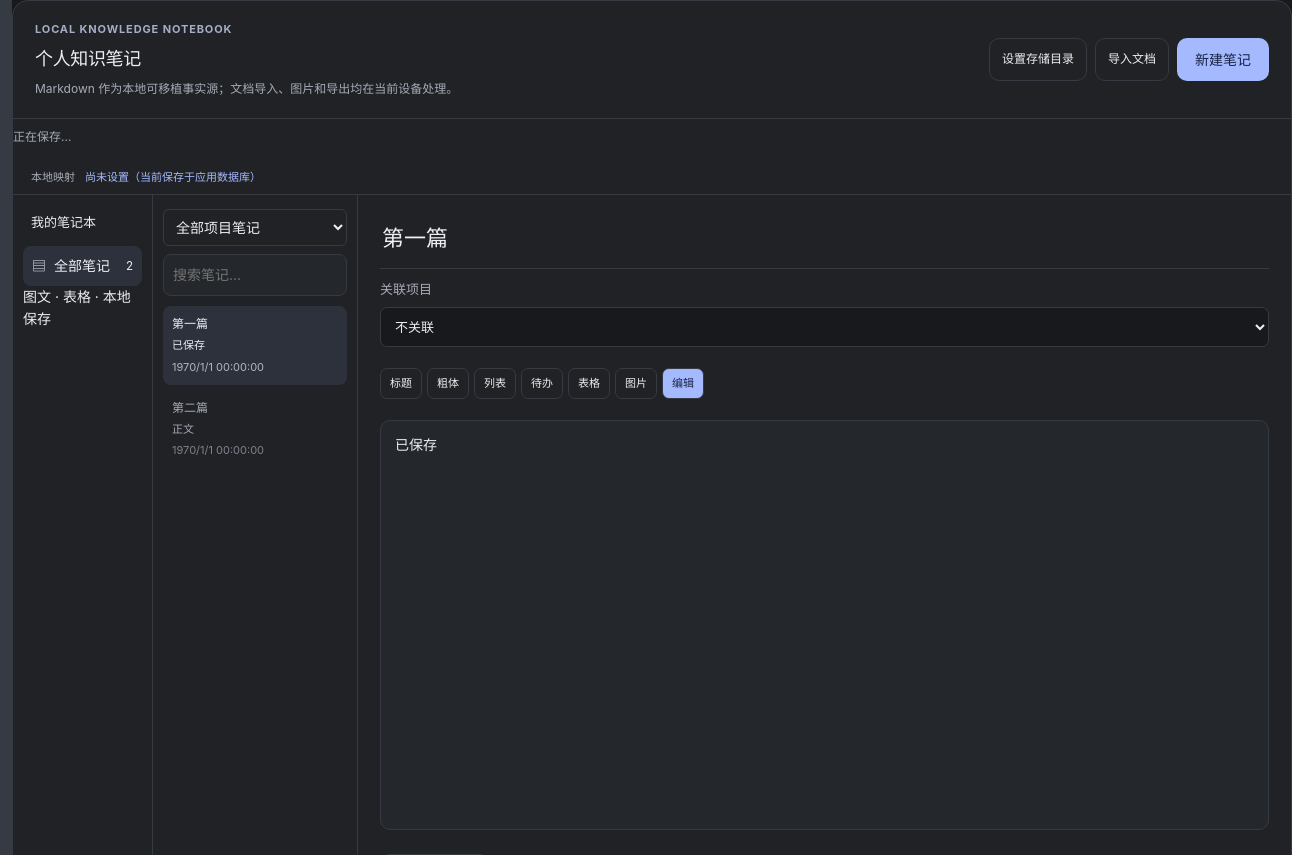
Test: starts new notes in edit mode and blocks discarding edits on selection
expect the field named "笔记标题" holds "第一篇": met, box [380, 213, 1269, 269]
Click the button "新建笔记": click(1223, 60) [1177, 38, 1269, 81]
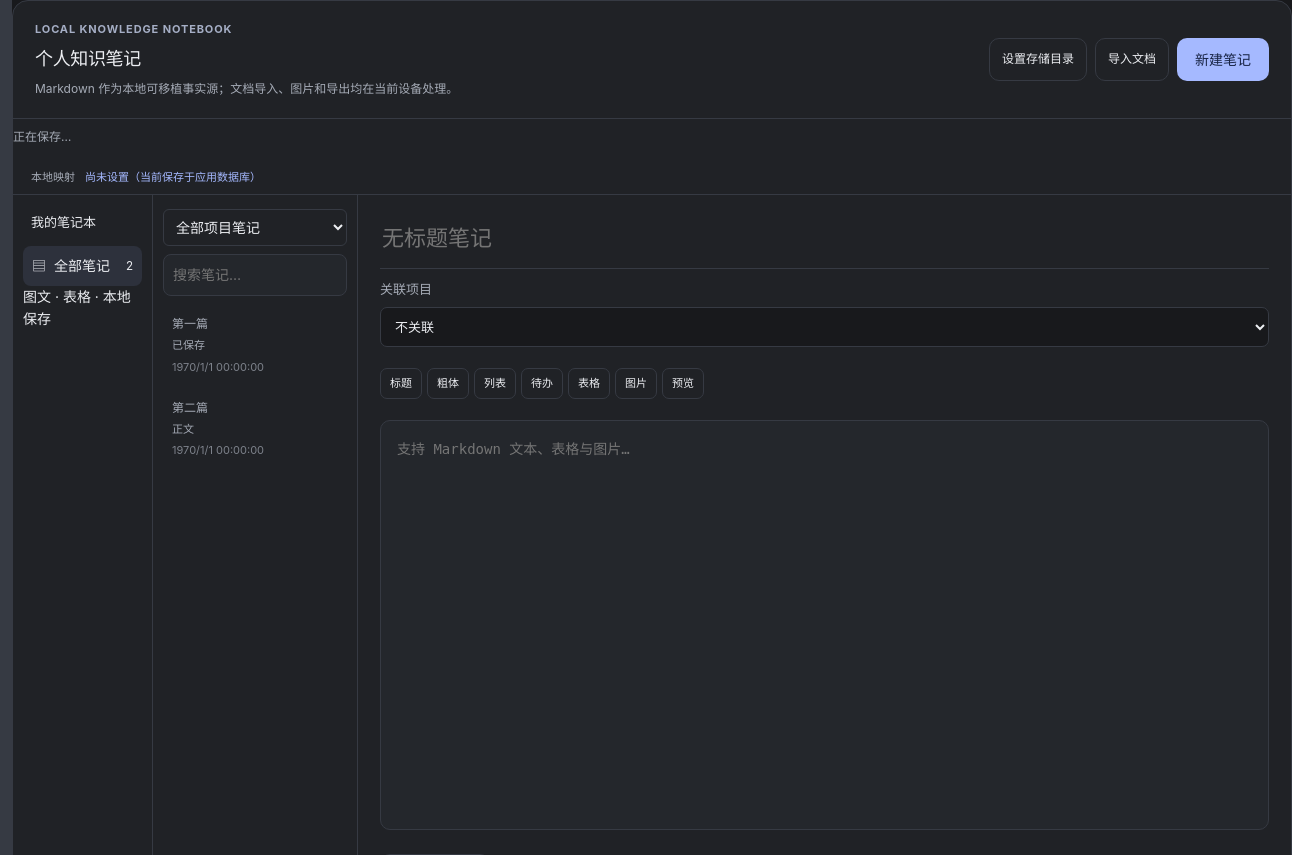
expect the text box named "笔记内容" is shown: met, box [380, 420, 1269, 830]
In the field named "笔记标题": (824, 241) [380, 213, 1269, 269], type "未保存"
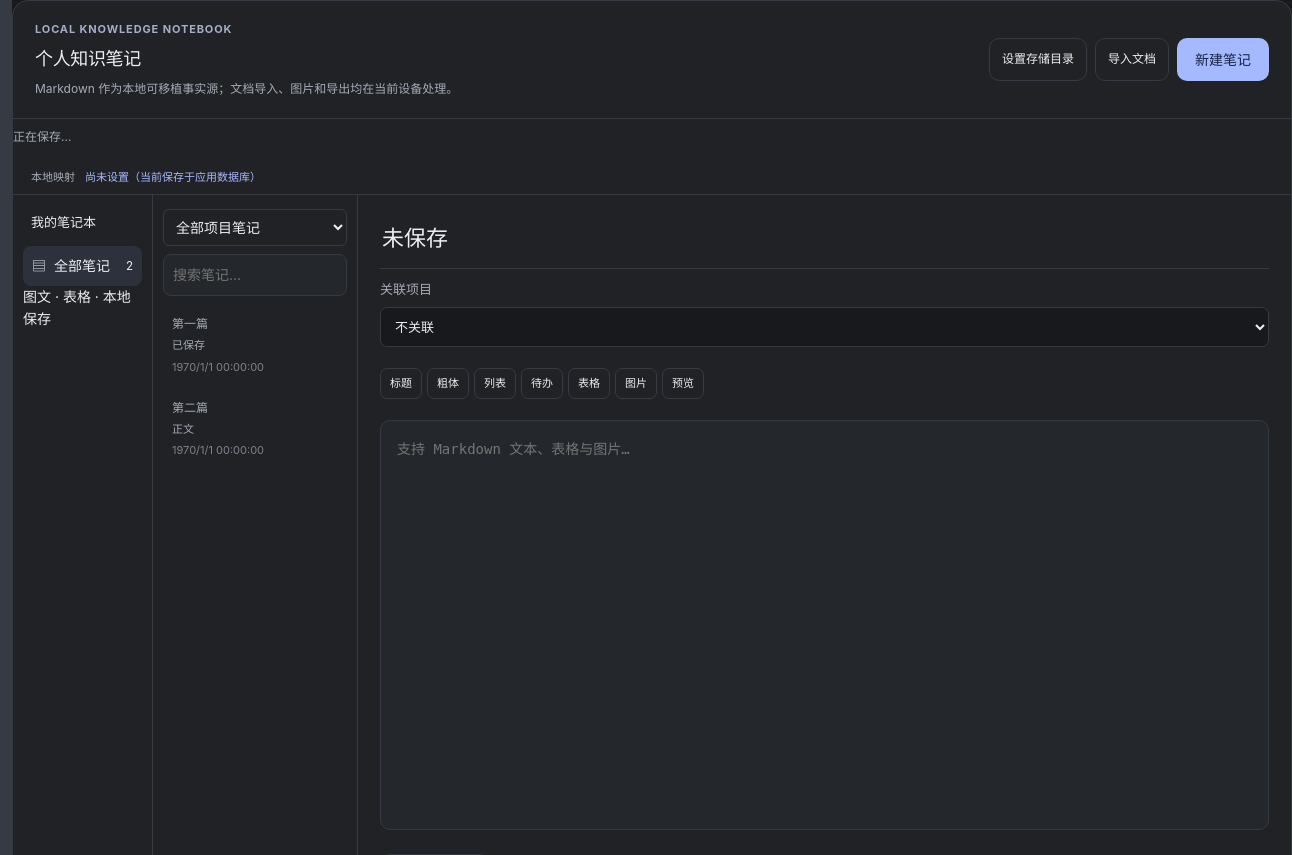
Click the text "第二篇": click(190, 407) [172, 400, 208, 414]
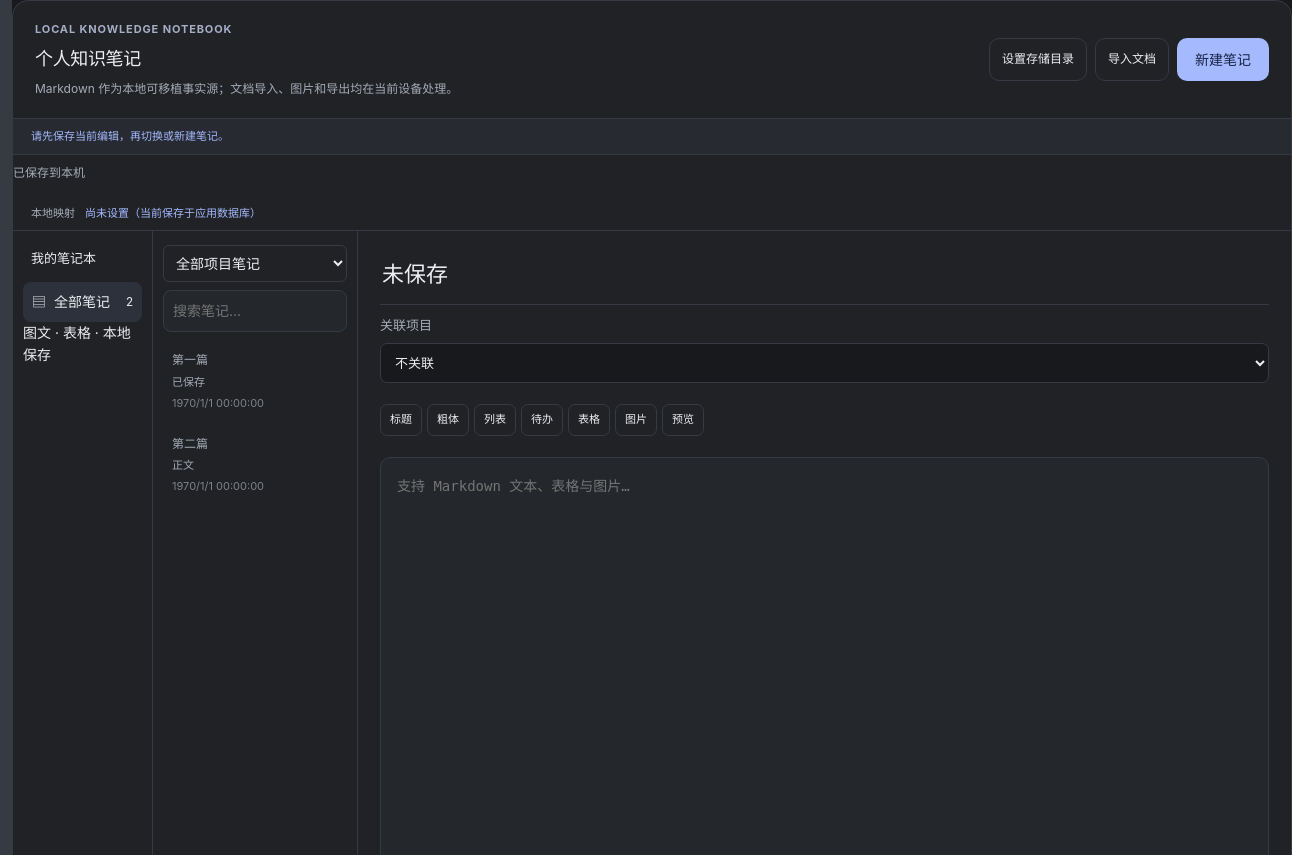
expect the text "请先保存当前编辑，再切换或新建笔记。" is shown: met, box [13, 119, 1291, 155]
